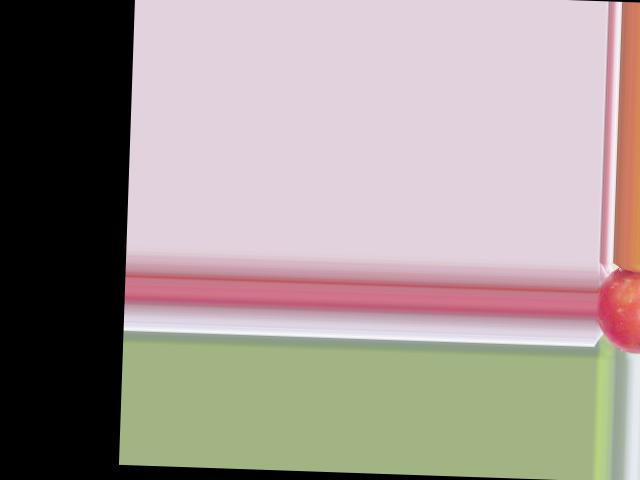tomato: (594, 267, 640, 354)
